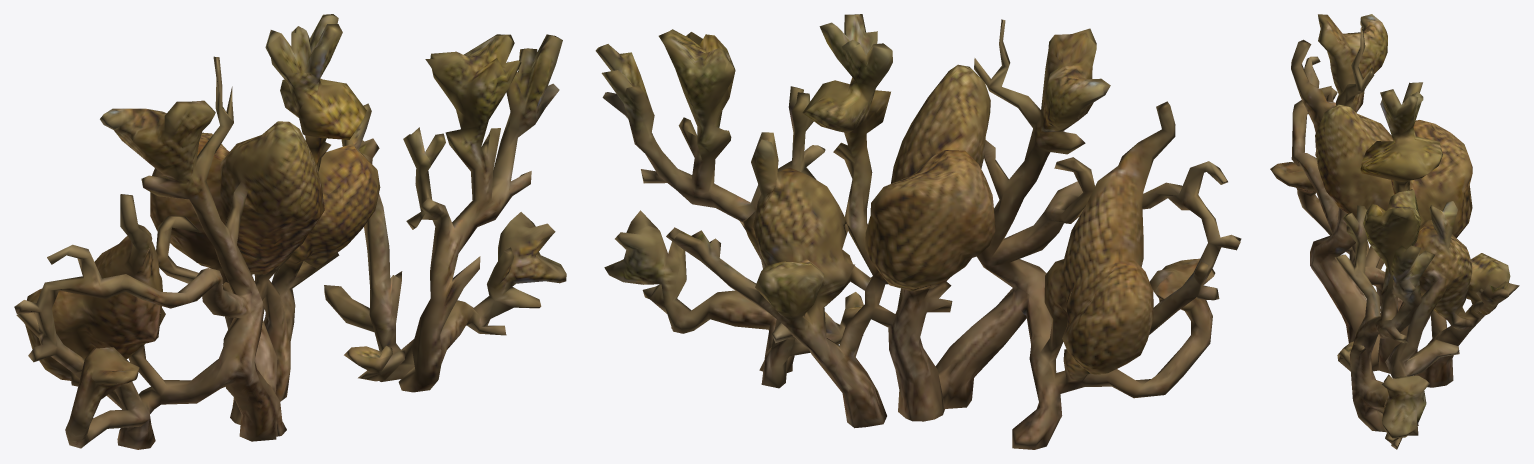
File: Plantas_Deserticas.glb
3 views of the same model, side by side, from view 1: azimuth 30°, elevation 25°; view 2: azimuth 150°, elevation 25°; view 3: azimuth 270°, elevation 25° (orthographic). The views are drawn at different scales.
Parts seen in each view (by area): view 1: Plantas Deserticas; view 2: Plantas Deserticas; view 3: Plantas Deserticas.
Boxes of the visible parts, x1,y1,x2,y2 form: Plantas Deserticas: (14, 14, 566, 449); Plantas Deserticas: (595, 14, 1241, 449); Plantas Deserticas: (1270, 14, 1519, 449).
Size of the model in its own units: 0.2853 by 0.1792 by 0.1278.
Materials: 1 (1 with a texture image).
